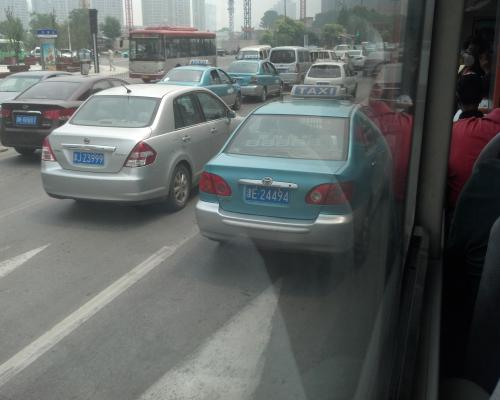Carplate: (243, 180, 294, 210)
